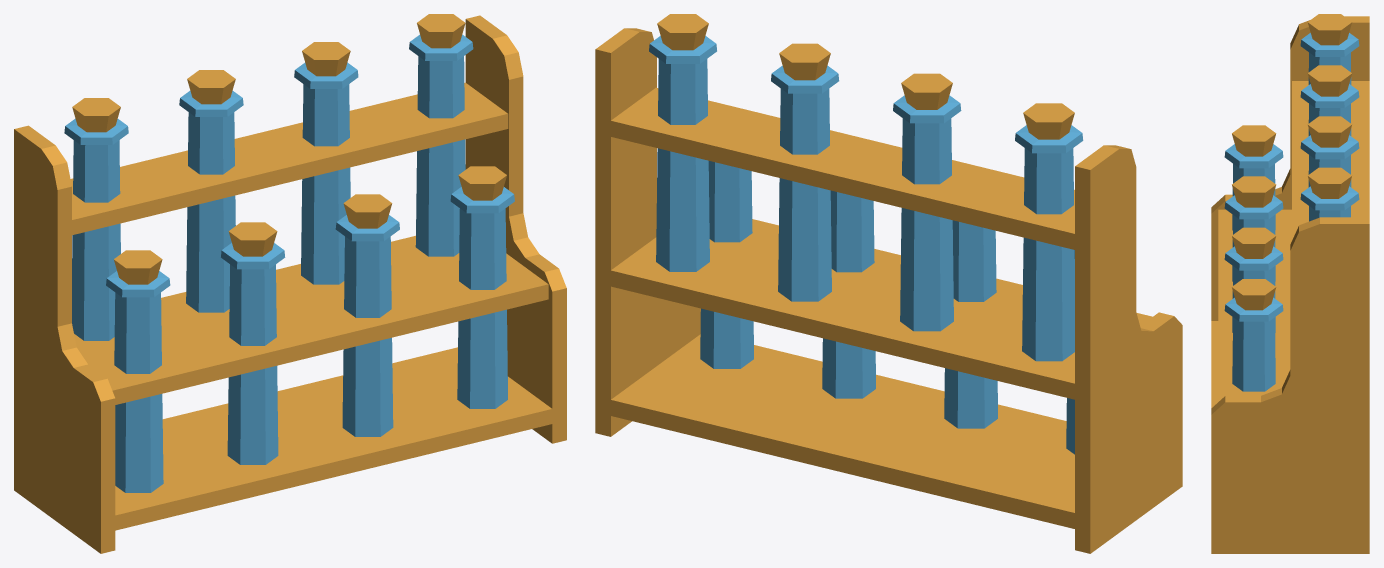
Rendered from SM_Lab_Tubes_Holder.fbx.
3 renders of one model, left to right at view 1: azimuth 30°, elevation 25°; view 2: azimuth 150°, elevation 25°; view 3: azimuth 270°, elevation 25°, orthographic. The views are drawn at different scales.
Visible parts, largest first — view 1: lab-tubes-holder; view 2: lab-tubes-holder; view 3: lab-tubes-holder.
Boxes of the visible parts, x1,y1,x2,y2 form: lab-tubes-holder: (14, 14, 566, 553); lab-tubes-holder: (595, 14, 1182, 553); lab-tubes-holder: (1211, 14, 1369, 553).
Bounding box in the file's own units: 0.3599 × 0.2839 × 0.116.
